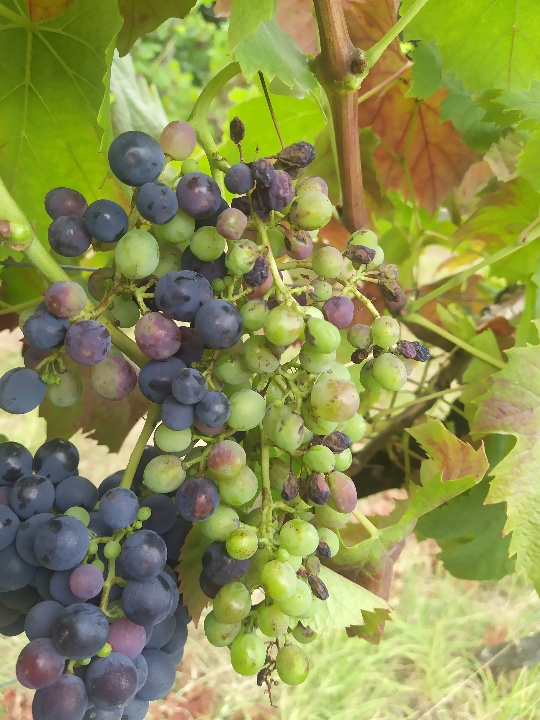grape: (5, 117, 429, 694)
